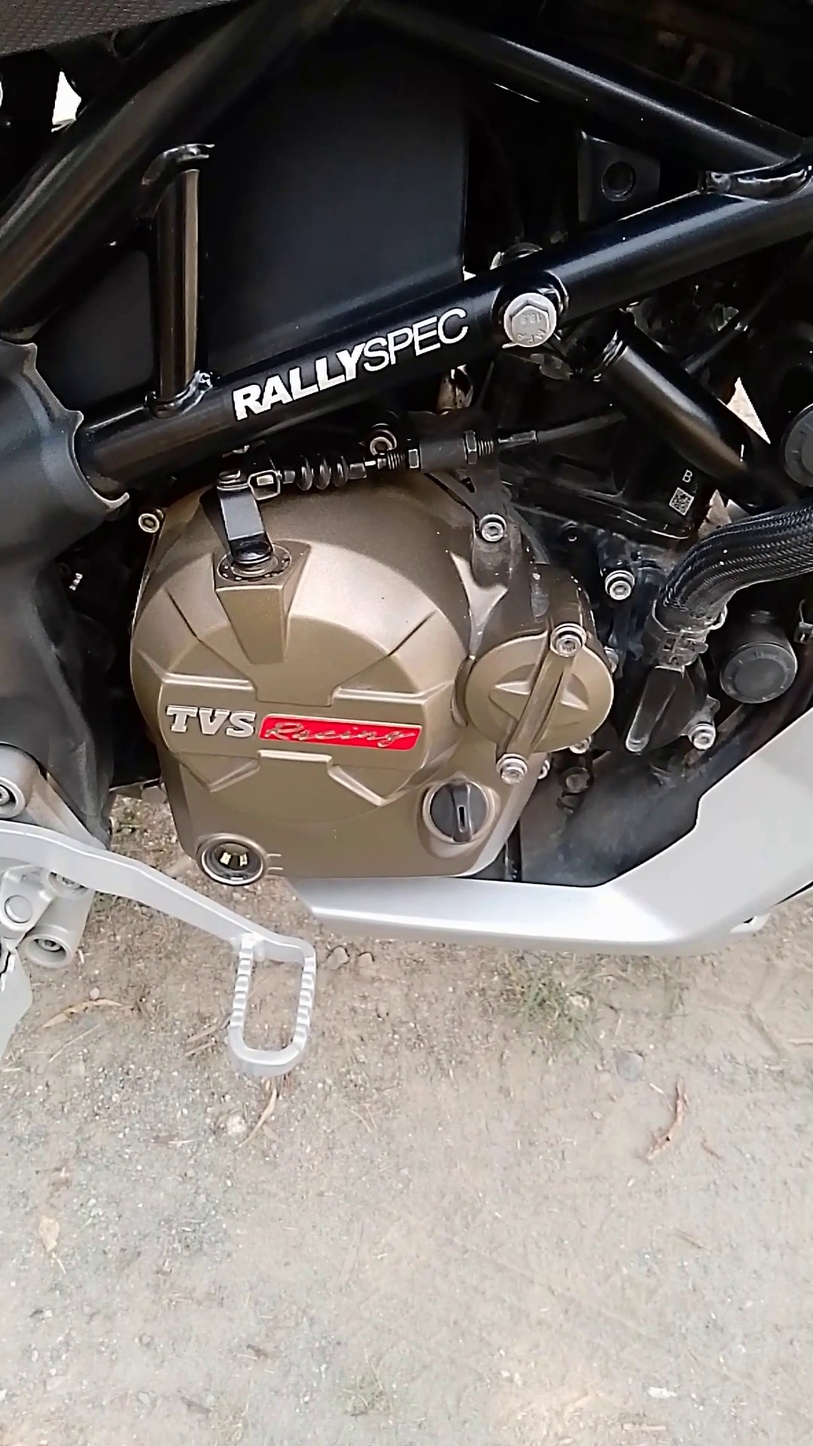bike-engine: (127, 446, 610, 889)
bike-engine-level: (196, 829, 289, 894)
bike-oil-cap: (414, 768, 504, 869)
